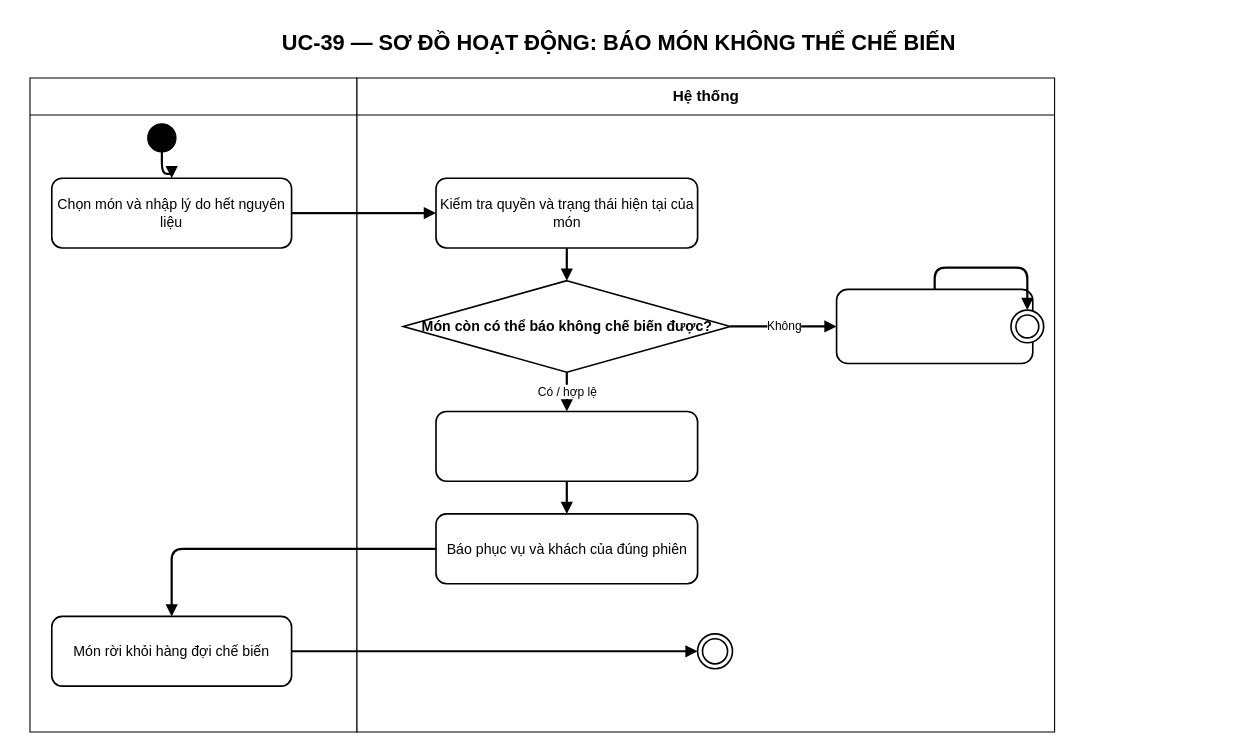
The diagram is 1236 pixels wide and 751 high, and some of its shapes have lost their labels. The box of each missing label's shape, as (x1, y1, x2, y2) in pixels:
Tác nhân: Bếp: (29, 77, 357, 732)
Từ chối món đã phục vụ hoặc đã hủy: (835, 288, 1033, 364)
Đánh dấu món không phục vụ được kèm lý do và lịch sử: (435, 410, 698, 482)
